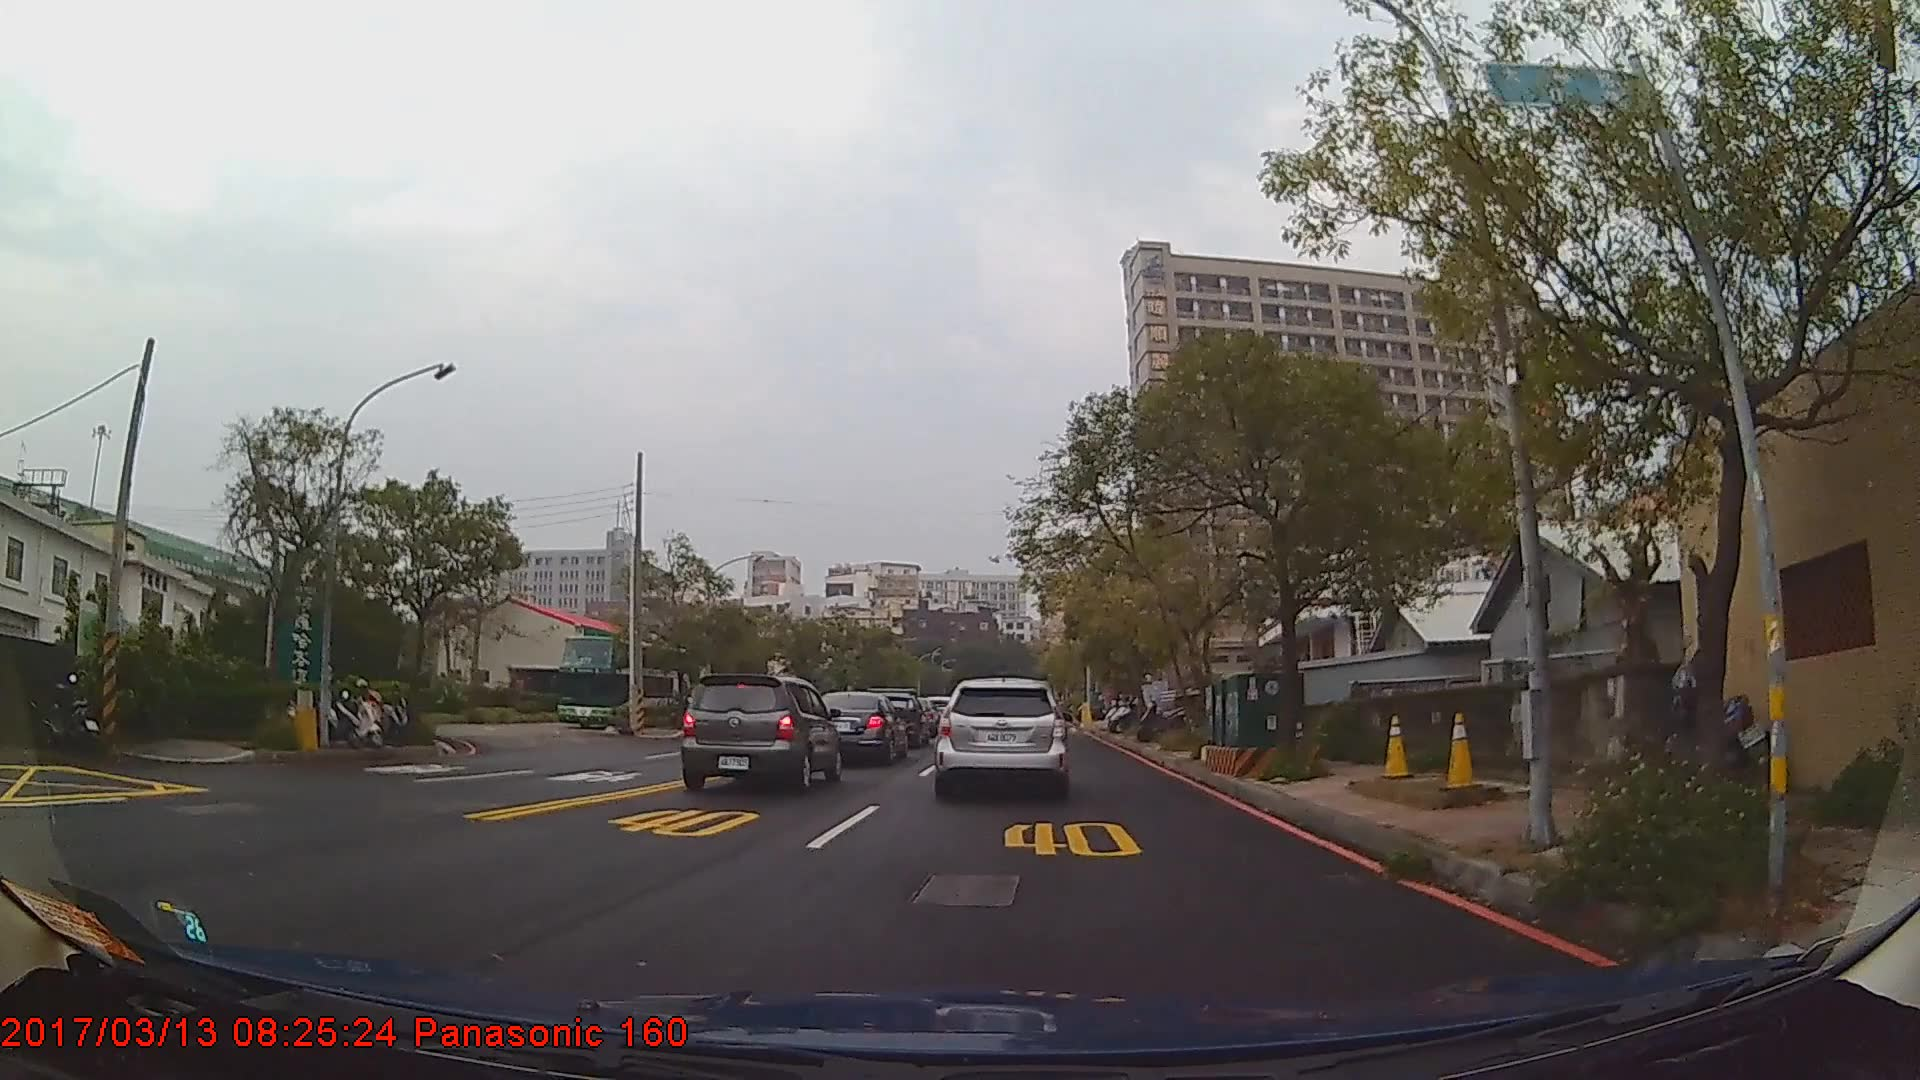vehicle: (676, 671, 837, 791), (934, 675, 1069, 795), (555, 632, 704, 732), (806, 690, 907, 764)
